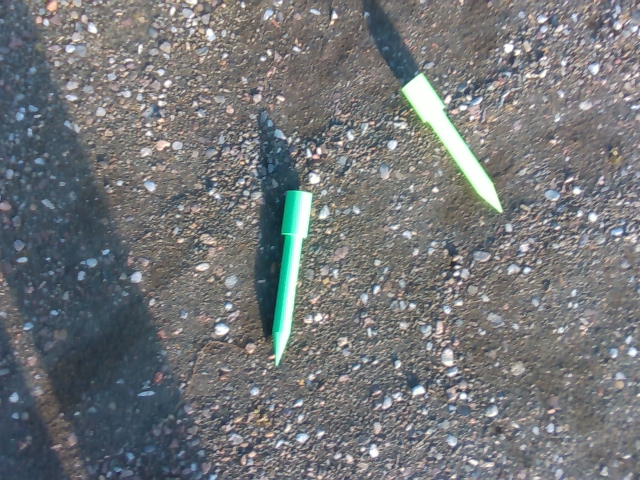Probe: (395, 66, 509, 219), (263, 184, 321, 372)
